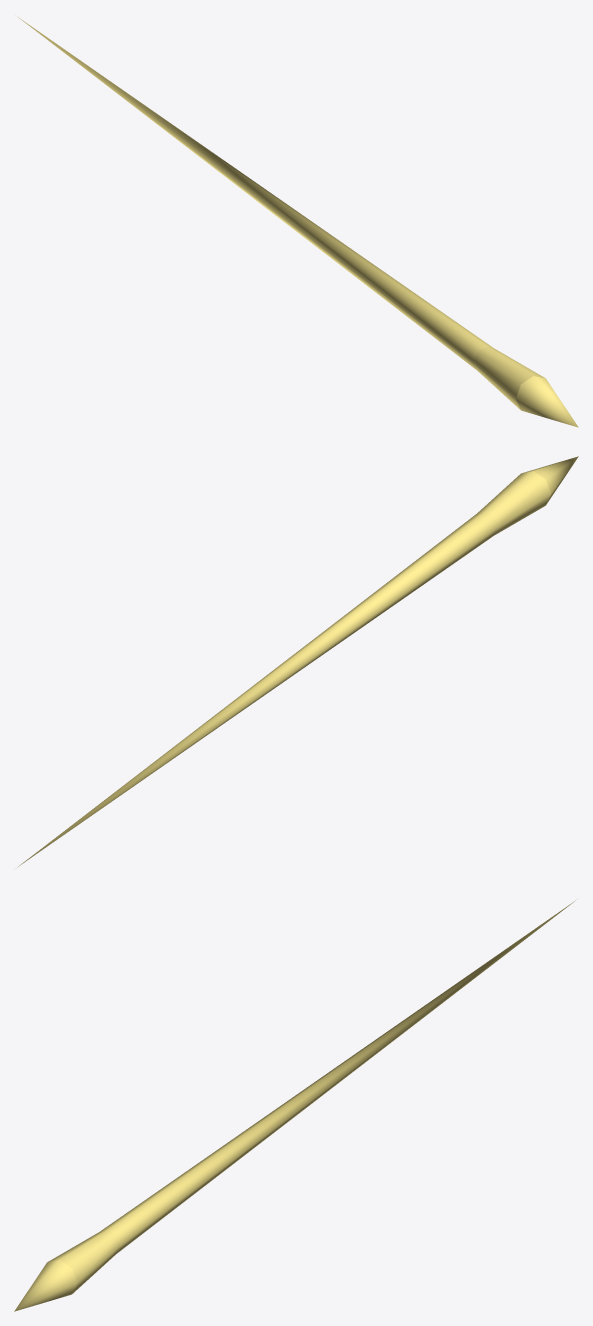
Rendered from bullet.FBX.
The picture shows the model from 3 angles, top to bottom: view 1: azimuth 30°, elevation 25°; view 2: azimuth 150°, elevation 25°; view 3: azimuth 330°, elevation 25°; orthographic projection.
Parts seen in each view (by area): view 1: Spindle001; view 2: Spindle001; view 3: Spindle001.
Part boxes in pixels (x1,y1,x2,y2): Spindle001: (17,16,578,427); Spindle001: (17,456,578,867); Spindle001: (14,900,575,1311).
Bounding box in the file's own units: 0.2024 × 0.2024 × 5.62.
Materials: 1 (1 with a texture image).
